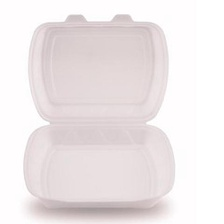foam_box: (13, 7, 180, 213)
